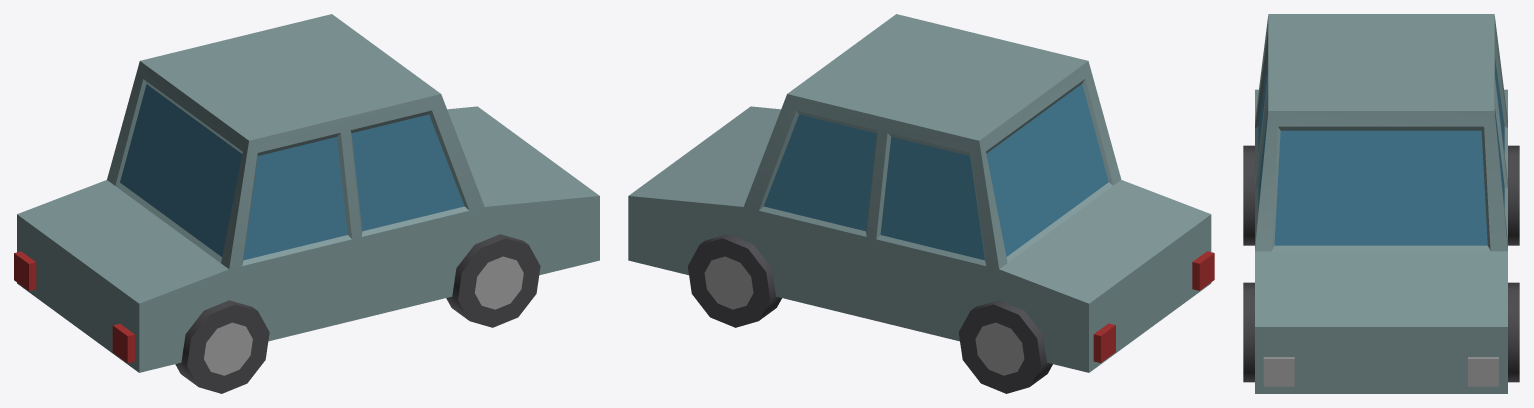
The model's file is car_01.fbx.
3 renders of one model, left to right at view 1: azimuth 30°, elevation 25°; view 2: azimuth 150°, elevation 25°; view 3: azimuth 270°, elevation 25°, orthographic. The views are drawn at different scales.
Visible parts, largest first — view 1: pCube79, pCylinder16, pCylinder18, pCube80, pCube81; view 2: pCube79, pCylinder17, pCylinder19, pCube80, pCube81; view 3: pCube79, pCylinder18, pCylinder16, pCylinder17, pCylinder19, pCube82, pCube83.
Boxes of the visible parts, bbox=[...] form: pCube79: bbox=[17, 14, 599, 372]; pCylinder16: bbox=[446, 234, 540, 327]; pCylinder18: bbox=[175, 300, 269, 393]; pCube80: bbox=[112, 323, 134, 363]; pCube81: bbox=[14, 251, 36, 290]; pCube79: bbox=[628, 14, 1211, 372]; pCylinder17: bbox=[687, 234, 781, 327]; pCylinder19: bbox=[958, 300, 1052, 393]; pCube80: bbox=[1192, 251, 1214, 290]; pCube81: bbox=[1093, 323, 1115, 362]; pCube79: bbox=[1255, 14, 1507, 393]; pCylinder18: bbox=[1243, 145, 1254, 245]; pCylinder16: bbox=[1243, 282, 1254, 382]; pCylinder17: bbox=[1508, 282, 1519, 382]; pCylinder19: bbox=[1508, 145, 1519, 245]; pCube82: bbox=[1263, 357, 1294, 386]; pCube83: bbox=[1468, 357, 1498, 386].
Bounding box in the file's own units: 3.13 × 1.49 × 1.54.
